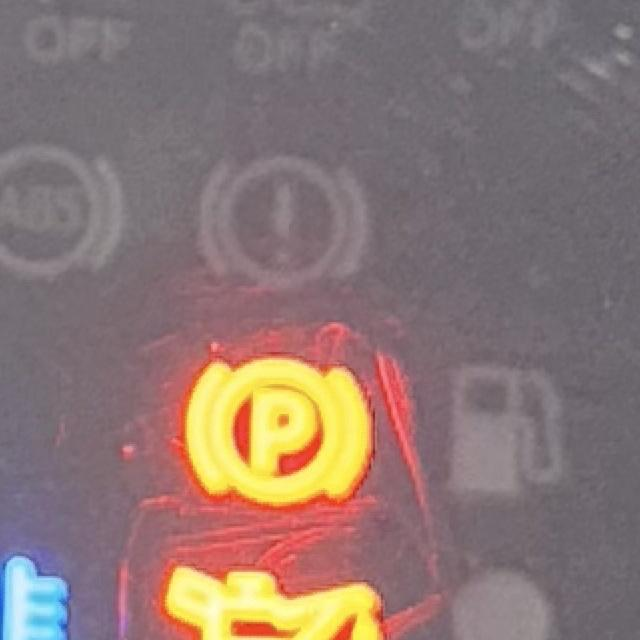Low Oil Pressure Issue: (164, 562, 391, 640)
Parking Break On: (184, 358, 378, 509)
